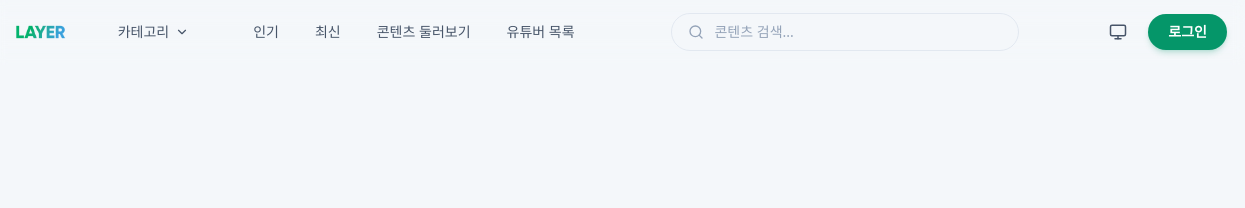
Header › search behavior › displays search results in dropdown
The width and height of the screenshot is (1245, 208).
Type "typescript" into the search field with placeholder "콘텐츠 검색..." at (858, 32), box [714,22,1002,42]
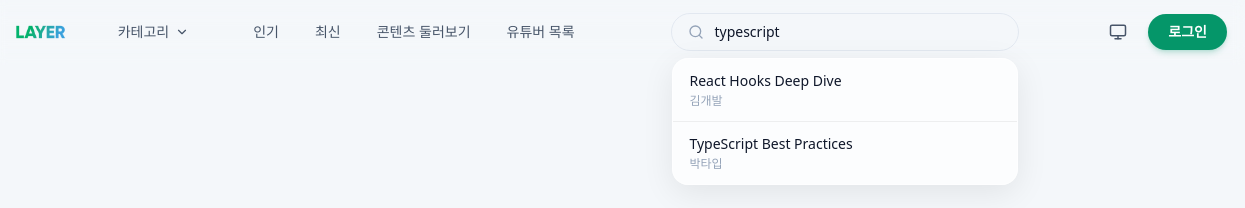
Result: the text "React Hooks Deep Dive" is shown at [690,71,842,90]
Result: the text "TypeScript Best Practices" is shown at [690,134,853,153]
Result: the text "김개발" is shown at [690,92,723,109]
